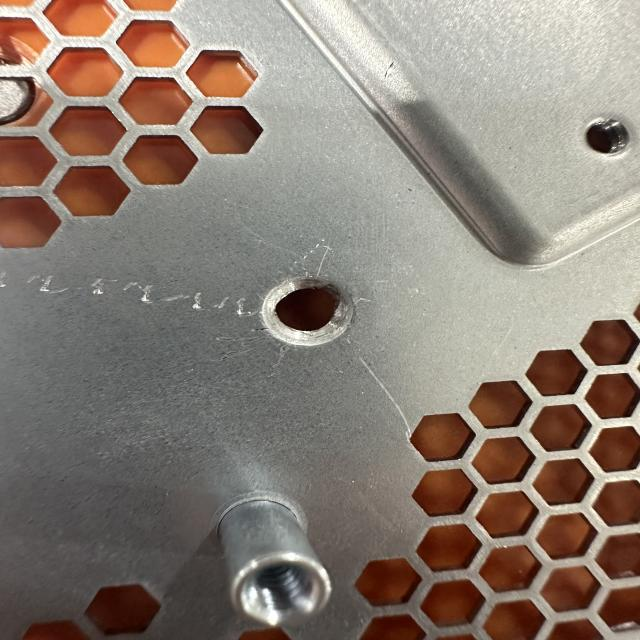Missing screw: (252, 272, 368, 354)
